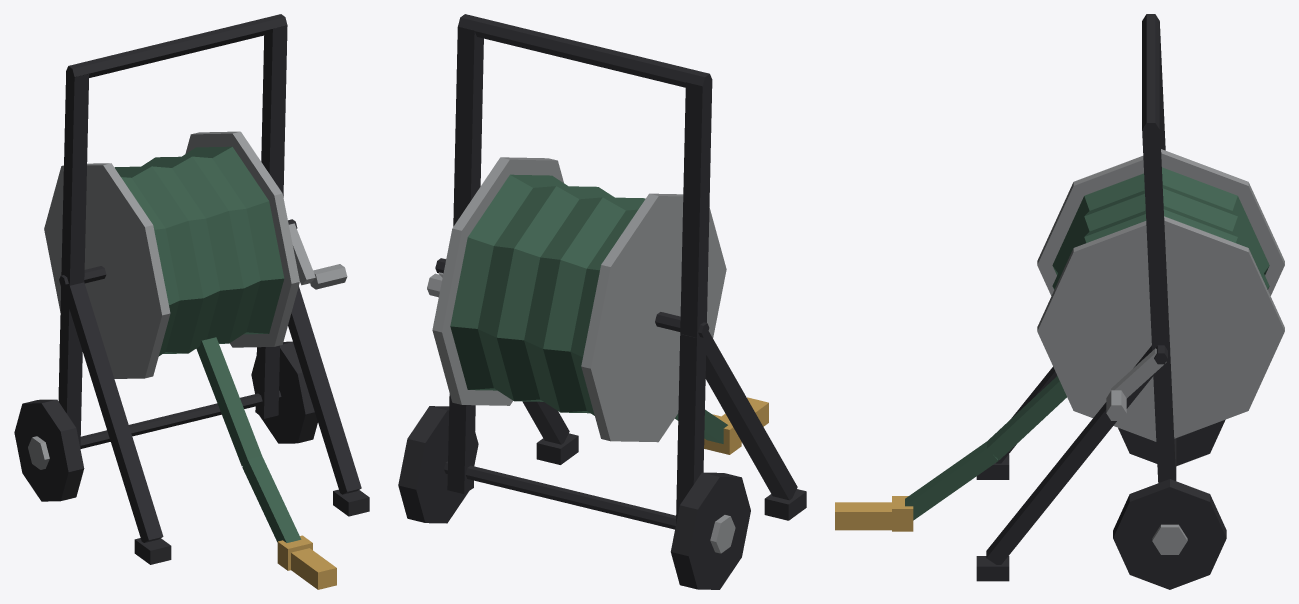
The model's file is FN_Reel_Hose.glb.
3 views of the same model, side by side, from view 1: azimuth 30°, elevation 25°; view 2: azimuth 150°, elevation 25°; view 3: azimuth 270°, elevation 25° (orthographic). The views are drawn at different scales.
Visible parts, largest first — view 1: FN_Reel_Hose; view 2: FN_Reel_Hose; view 3: FN_Reel_Hose.
Boxes of the visible parts, x1,y1,x2,y2 form: FN_Reel_Hose: (14, 14, 369, 589); FN_Reel_Hose: (398, 14, 806, 589); FN_Reel_Hose: (835, 14, 1284, 589).
Size of the model in its own units: 0.538 by 0.7981 by 0.712.
1 material, 1 textured.
